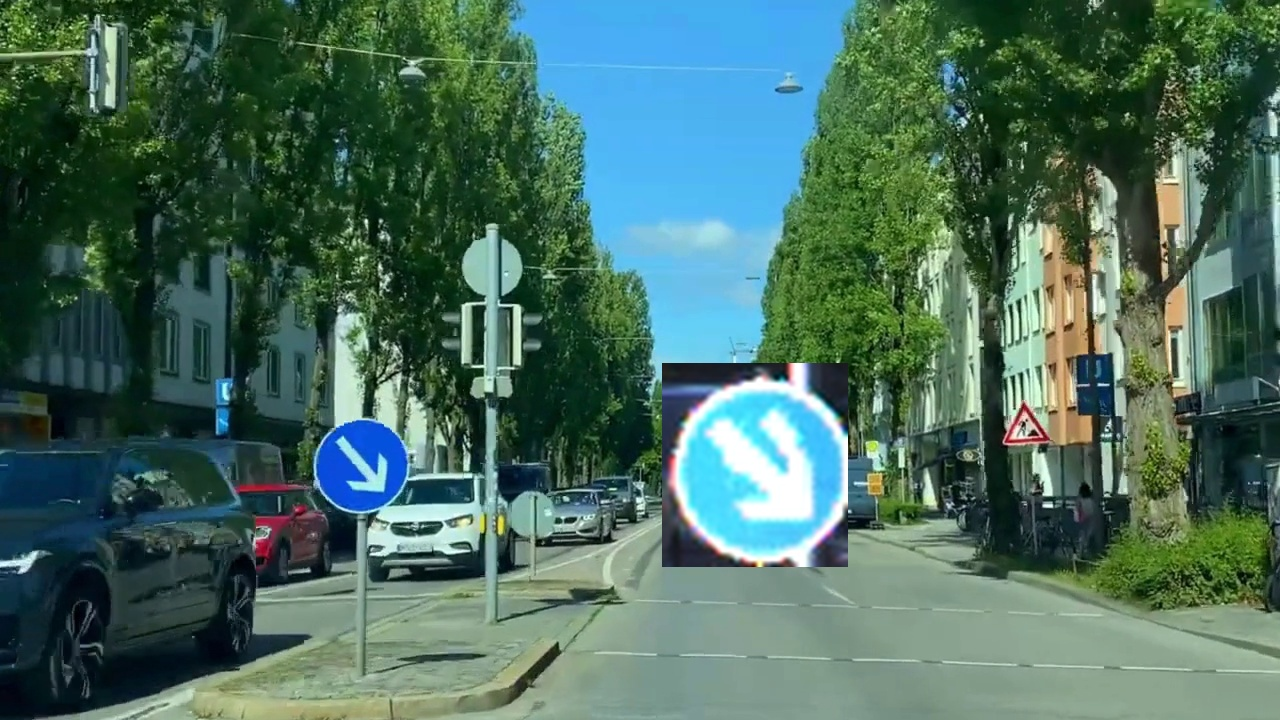Keep right: (662, 363, 848, 567)
